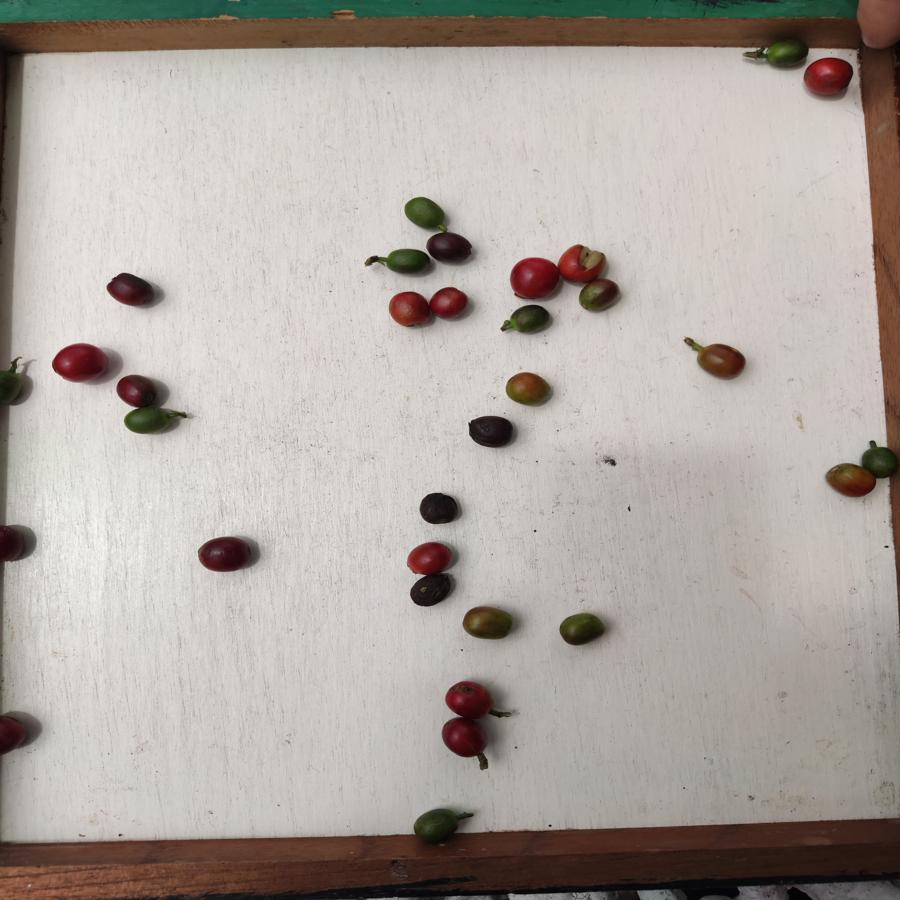Inmaduro: (408, 807, 466, 841), (401, 194, 450, 232), (504, 302, 554, 338), (755, 38, 809, 69), (1, 357, 30, 412), (123, 408, 177, 435), (383, 248, 428, 277), (863, 446, 898, 482)
Maduro: (47, 341, 112, 384), (803, 58, 858, 101), (506, 257, 563, 296), (556, 243, 612, 282), (441, 680, 496, 715), (404, 541, 454, 577), (427, 287, 474, 319), (385, 293, 429, 327)
Pinton: (695, 339, 746, 382), (460, 604, 514, 642), (558, 612, 605, 650), (507, 369, 549, 408), (581, 280, 622, 315), (827, 461, 863, 500)
Sobremaduro: (199, 535, 253, 575), (104, 271, 158, 308), (463, 416, 518, 451), (443, 718, 485, 760), (427, 231, 477, 266), (419, 488, 461, 529), (117, 372, 161, 407), (409, 574, 454, 608), (1, 713, 30, 763), (2, 522, 35, 565)
